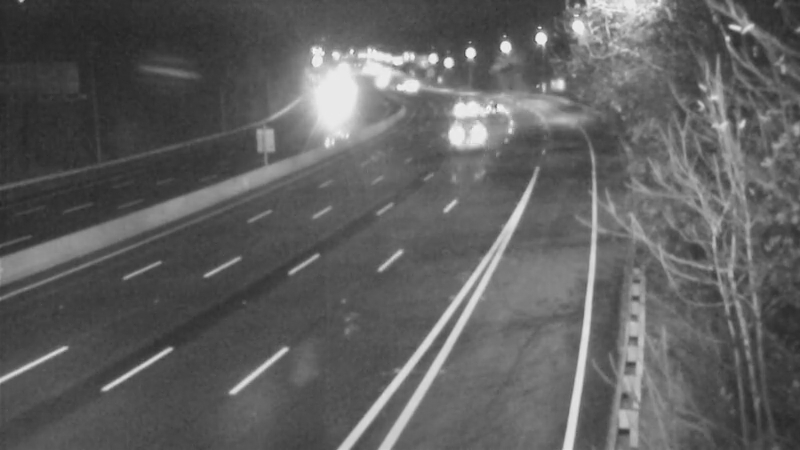vehicle: (384, 61, 434, 111), (368, 62, 418, 112), (436, 81, 486, 131), (470, 82, 520, 132), (443, 118, 493, 168)
